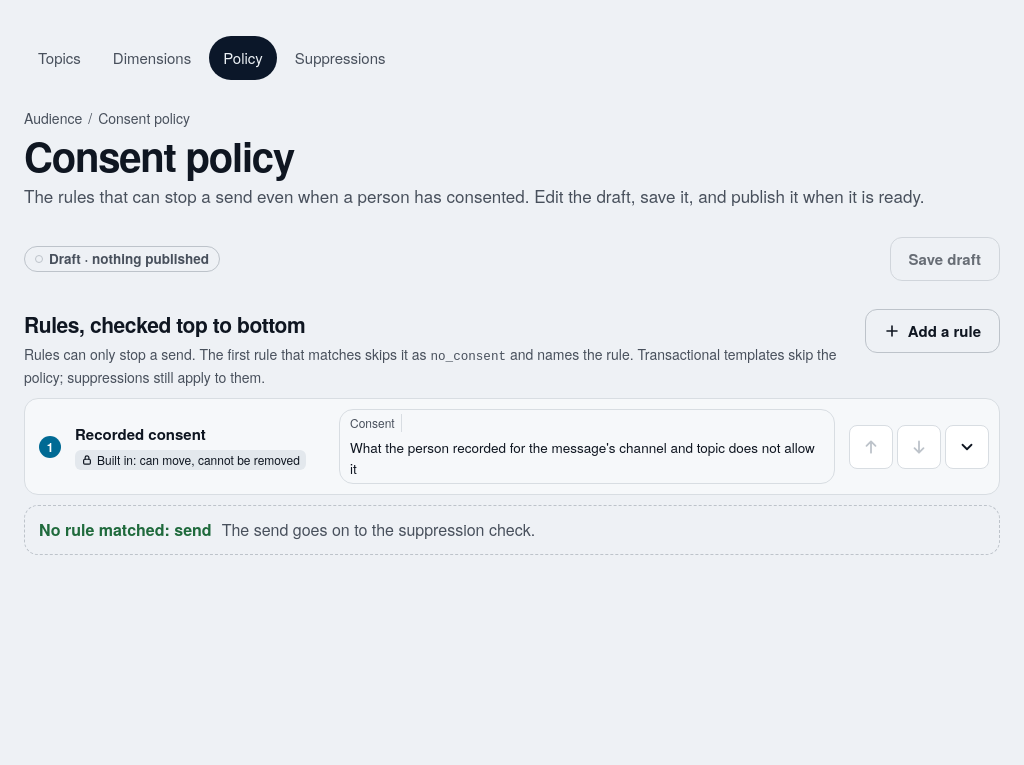
Test case: consent policy builder › says when someone else saved the draft first, and loads theirs
Click the button "Add a rule".
click(932, 331)  # box [865,309,1000,353]
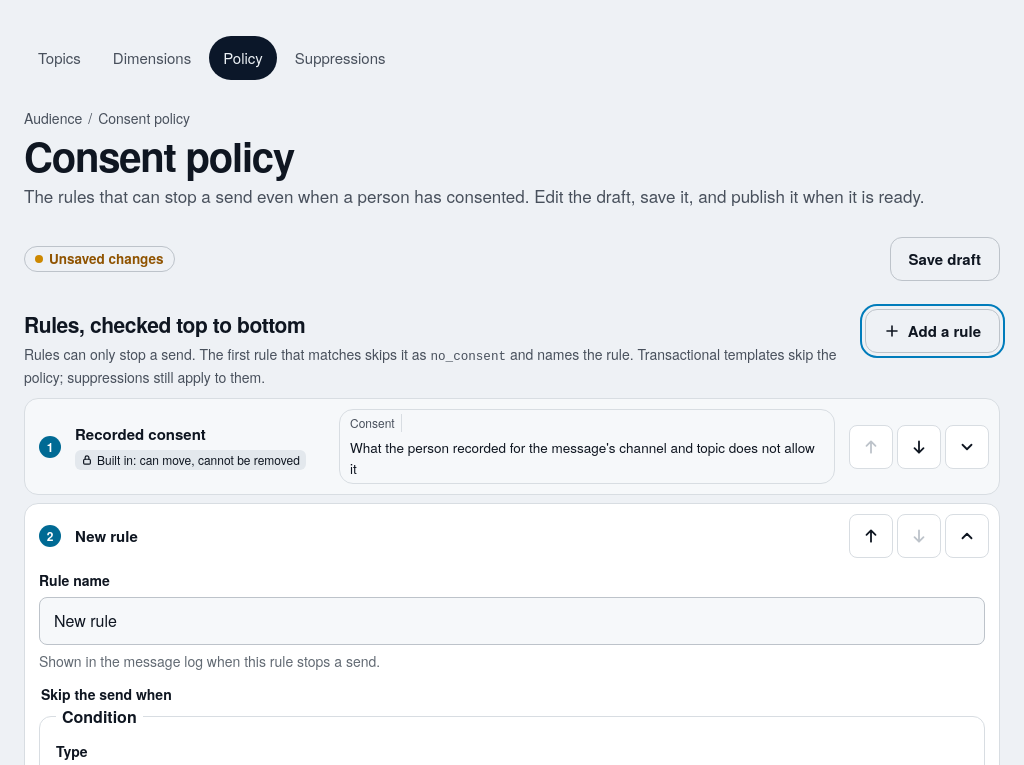
Replace the text in the field labelled "Rule name" with "Mine" at (512, 621), box [39,597,985,645]
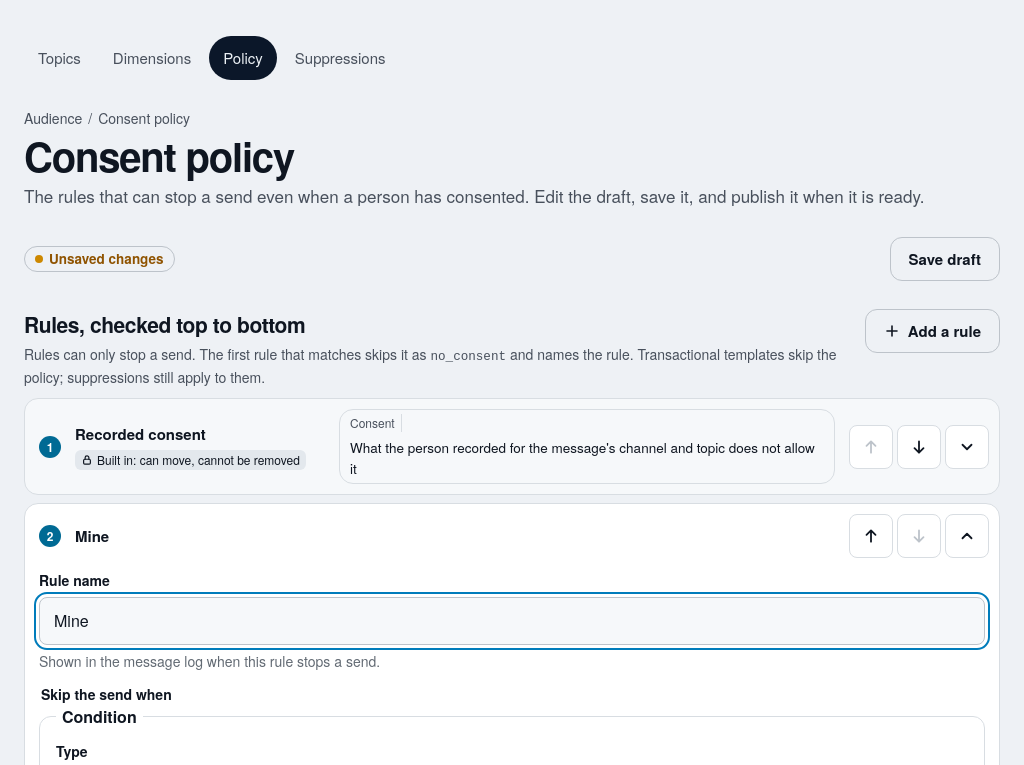
Click the button "Save draft".
click(945, 259)  # box [890,237,1000,281]
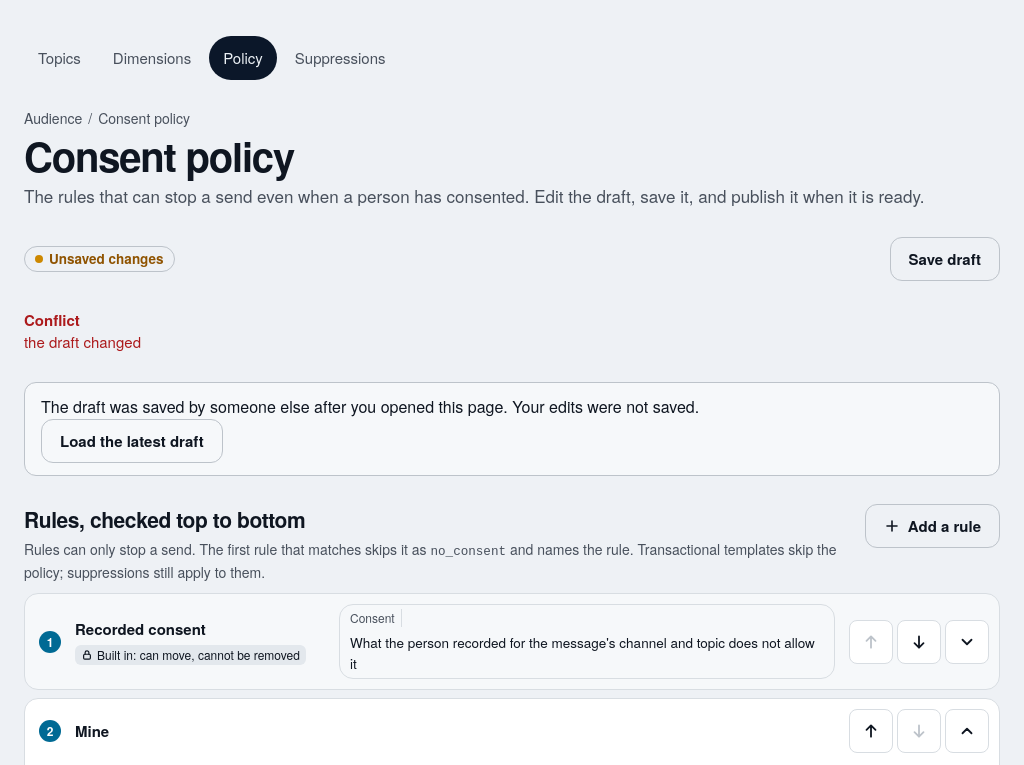
Check: the text "saved by someone else" is shown, box [41,395,699,418]
Click the button "Load the latest draft".
click(132, 441)  # box [41,419,223,463]
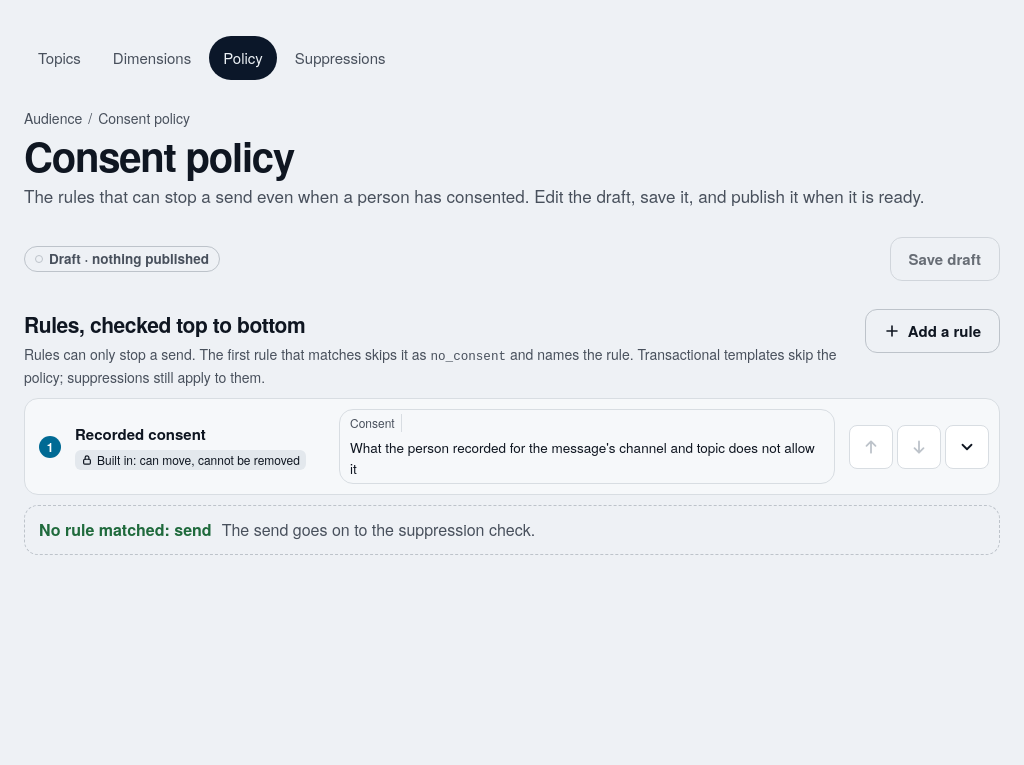
Check: the heading "Mine" is gone
